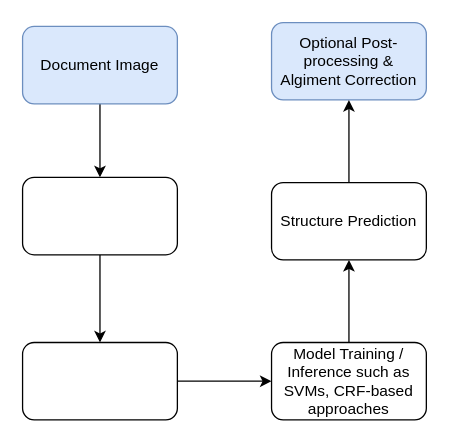
Image size: 449x442. Some labels were removed from this diagram. Each missing label, with the centre of its shape:
"Feature Extraction" goes at [99,380].
"Preprocessing such as Binarixation, skew correction" goes at [99,215].
